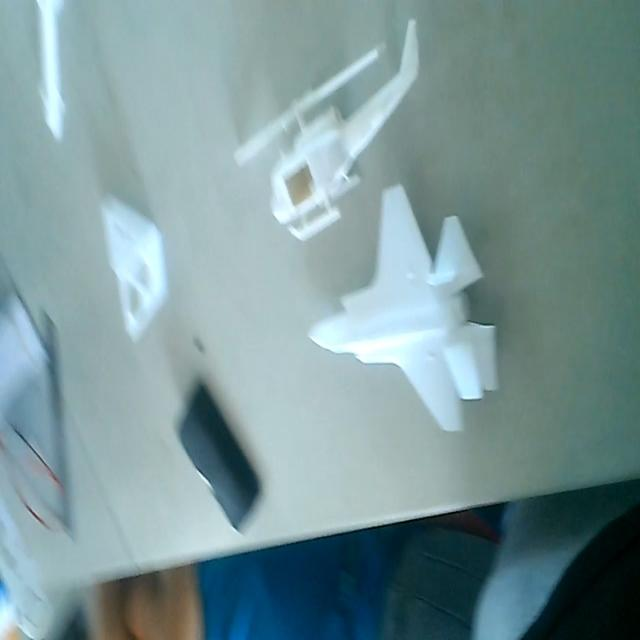Helicopter: (237, 14, 422, 238)
Jet: (305, 186, 499, 432)
Rocket: (26, 0, 72, 149)
